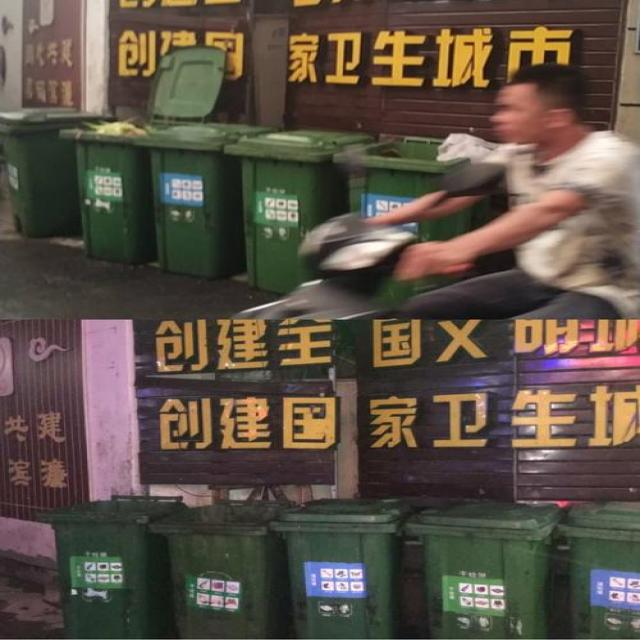garbage_bin: (221, 129, 374, 288), (406, 503, 564, 639), (38, 494, 185, 639), (268, 496, 410, 639), (145, 498, 289, 639), (138, 123, 266, 278), (0, 107, 114, 236), (553, 499, 639, 639)
overflow: (332, 125, 488, 235), (63, 118, 165, 262)
